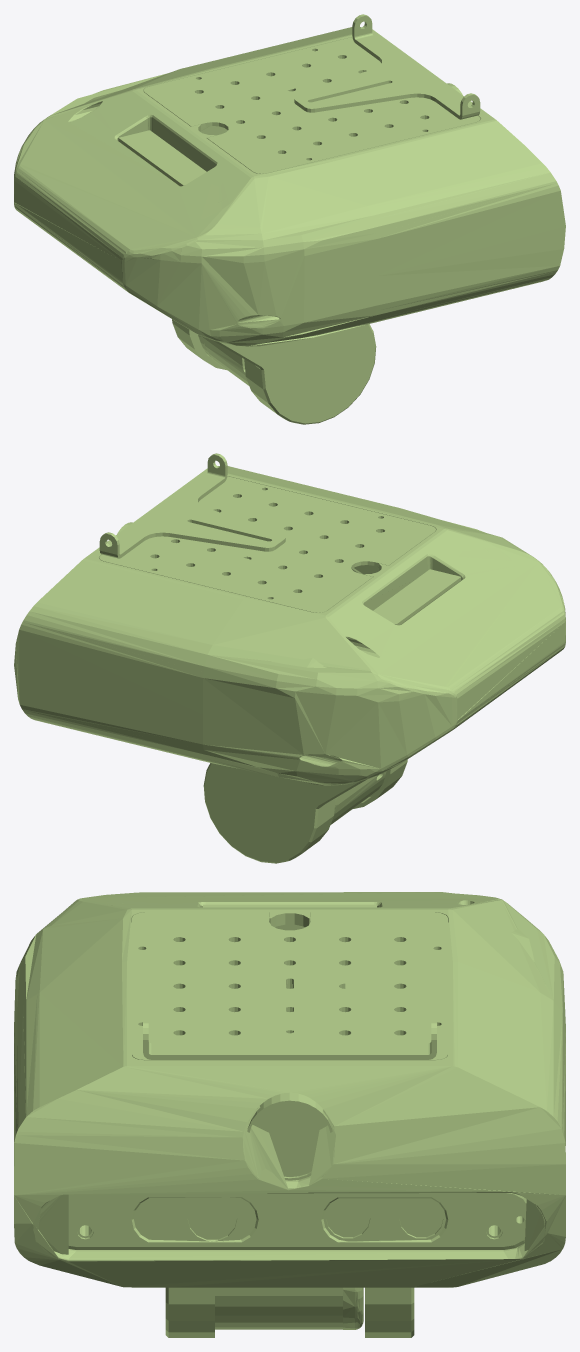
3 views of the same model, one above another, from view 1: azimuth 30°, elevation 25°; view 2: azimuth 150°, elevation 25°; view 3: azimuth 270°, elevation 25° (orthographic). The views are drawn at different scales.
Parts seen in each view (by area): view 1: S3NEK_00_000_S3_2DOF_Head_Shell; view 2: S3NEK_00_000_S3_2DOF_Head_Shell; view 3: S3NEK_00_000_S3_2DOF_Head_Shell.
Boxes of the visible parts, x1,y1,x2,y2 form: S3NEK_00_000_S3_2DOF_Head_Shell: (14, 14, 565, 424); S3NEK_00_000_S3_2DOF_Head_Shell: (14, 453, 565, 863); S3NEK_00_000_S3_2DOF_Head_Shell: (14, 892, 565, 1337).
Bounding box in the file's own units: 0.2208 × 0.2 × 0.1604.
